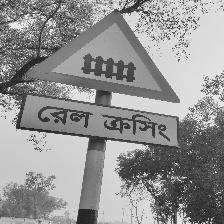Rail-crossing: (16, 9, 183, 149)
